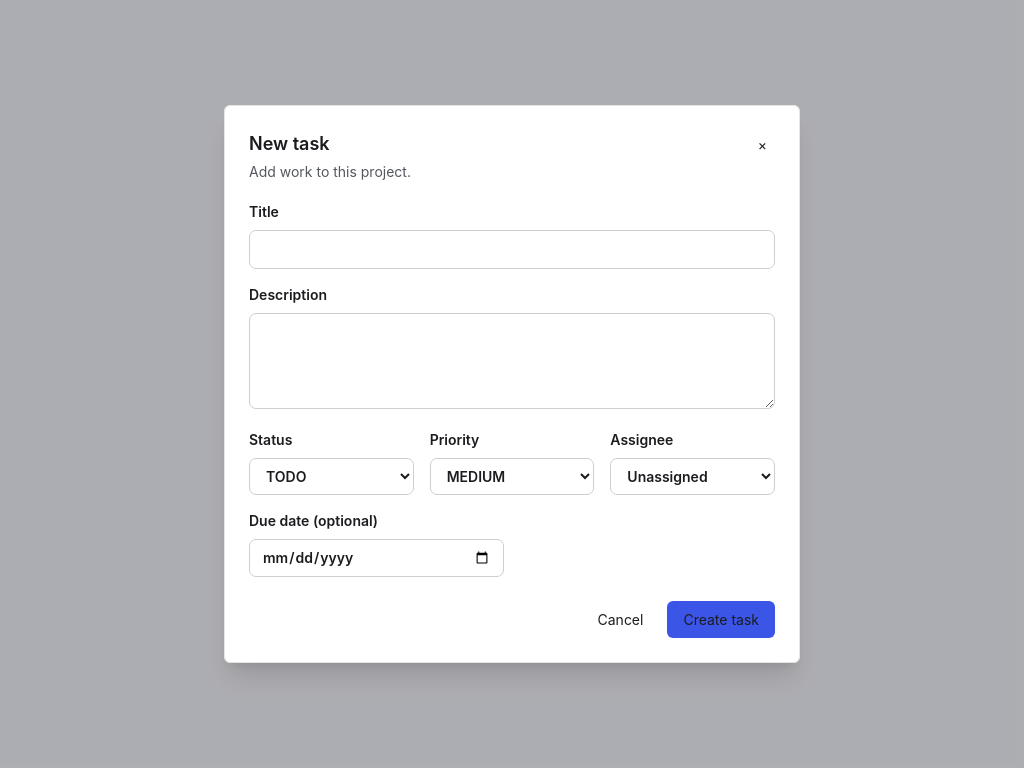
Test: TaskModal › validates a blank title and supplies visible backend defaults for create
Expected: the dropdown labelled "Status" shows "TODO", [249,458,414,495]
Expected: the dropdown labelled "Priority" shows "MEDIUM", [430,458,594,495]
Step 1. Click the button "Create task" → (721, 620), box [667,601,775,638]
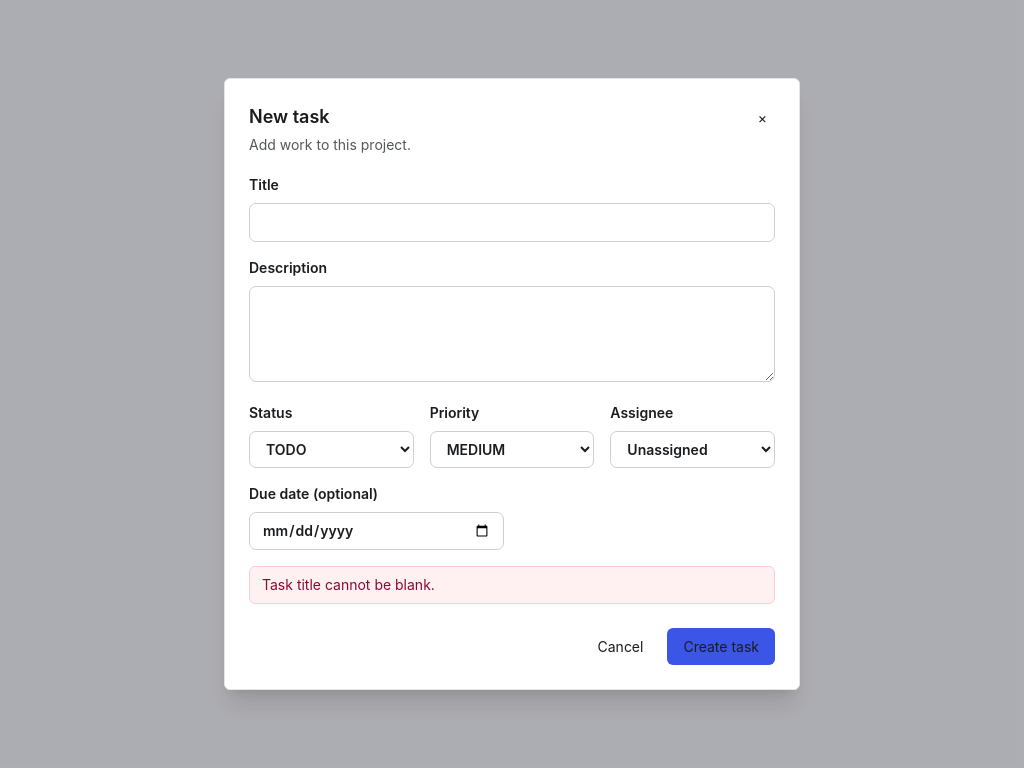
Expected: the message reads "Task title cannot be blank.", [262,576,435,593]
